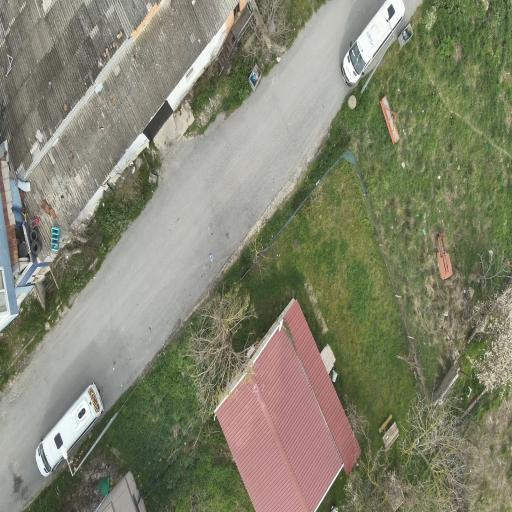car: (36, 383, 103, 476), (341, 0, 405, 85)
